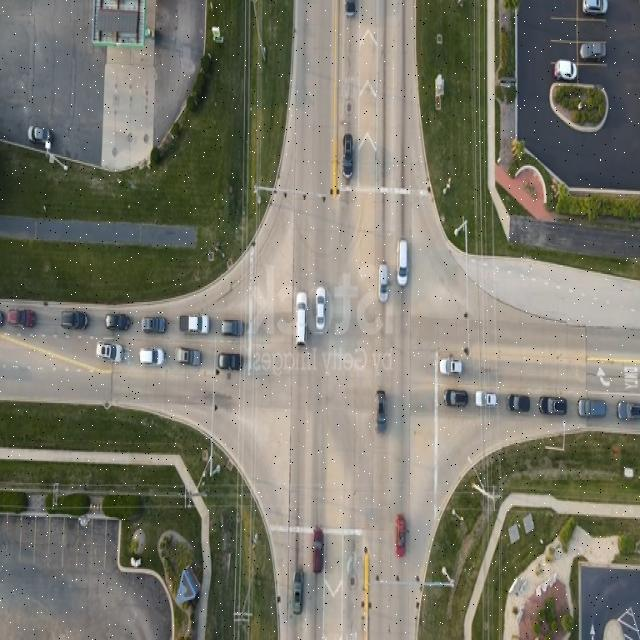car: (294, 294, 306, 348), (578, 400, 606, 420), (544, 400, 572, 420), (392, 242, 404, 288), (28, 126, 52, 148), (96, 344, 122, 364), (62, 311, 88, 331), (540, 396, 566, 416), (397, 240, 408, 286), (390, 520, 402, 562), (394, 516, 406, 558), (218, 353, 243, 373), (342, 136, 353, 180), (616, 404, 640, 424), (140, 316, 166, 334), (313, 528, 323, 574), (554, 60, 576, 80), (292, 569, 302, 613), (139, 349, 163, 367), (176, 349, 200, 367), (105, 314, 129, 332), (504, 397, 528, 415), (315, 290, 325, 332), (221, 320, 244, 338), (376, 390, 386, 430), (379, 266, 389, 304), (582, 0, 607, 15), (446, 391, 468, 408), (440, 358, 462, 375), (476, 391, 498, 407), (344, 0, 356, 19)
pickup-truck: (580, 40, 606, 60)
